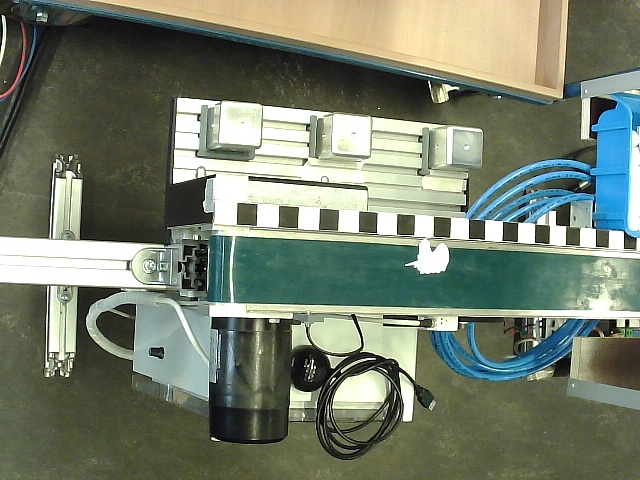unicorn: (404, 239, 450, 275)
